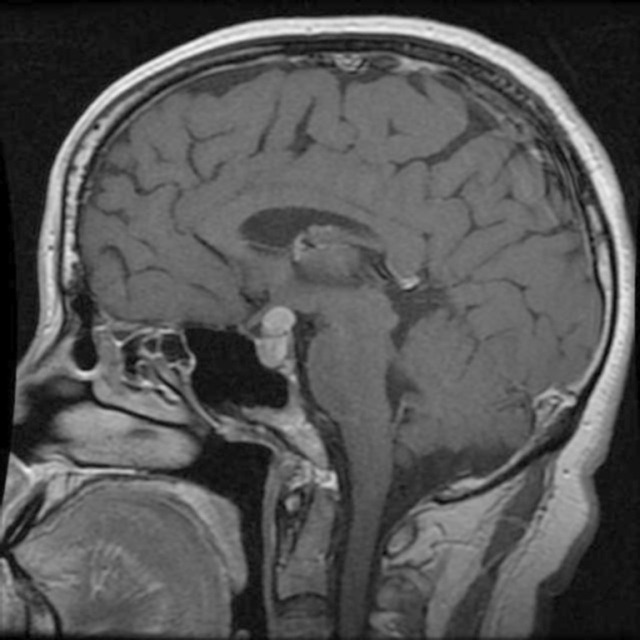no tumor: (260, 302, 302, 378)
